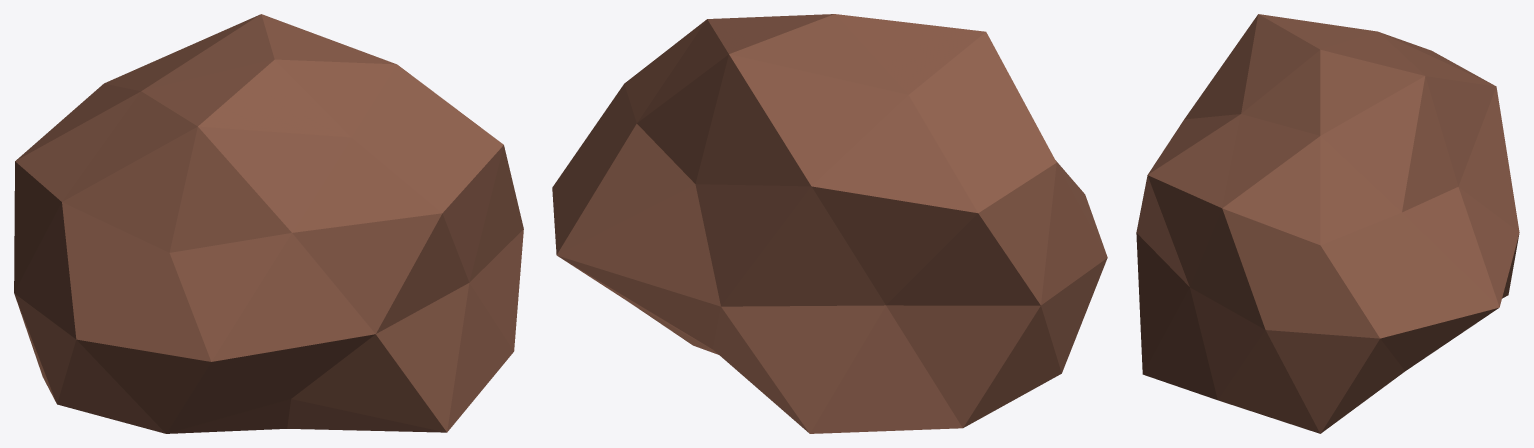
Rendered from cinder0.glb.
3 renders of one model, left to right at view 1: azimuth 30°, elevation 25°; view 2: azimuth 150°, elevation 25°; view 3: azimuth 270°, elevation 25°, orthographic. The views are drawn at different scales.
Parts seen in each view (by area): view 1: cinder0; view 2: cinder0; view 3: cinder0.
Part boxes in pixels (bbox=[...]): cinder0: bbox=[14, 14, 523, 433]; cinder0: bbox=[552, 14, 1107, 433]; cinder0: bbox=[1136, 14, 1519, 433].
Bounding box in the file's own units: 2.9 × 1.89 × 2.26.
